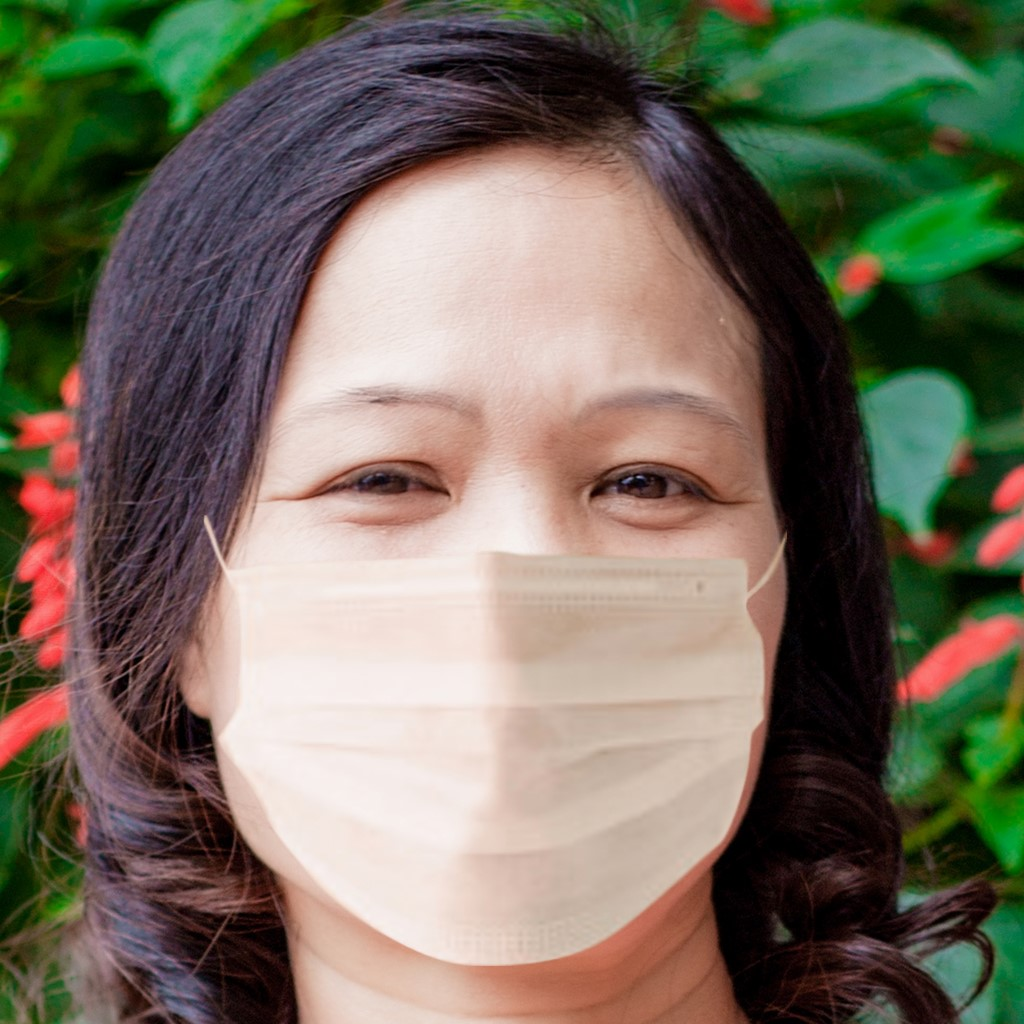con_mascara: (156, 116, 800, 986)
